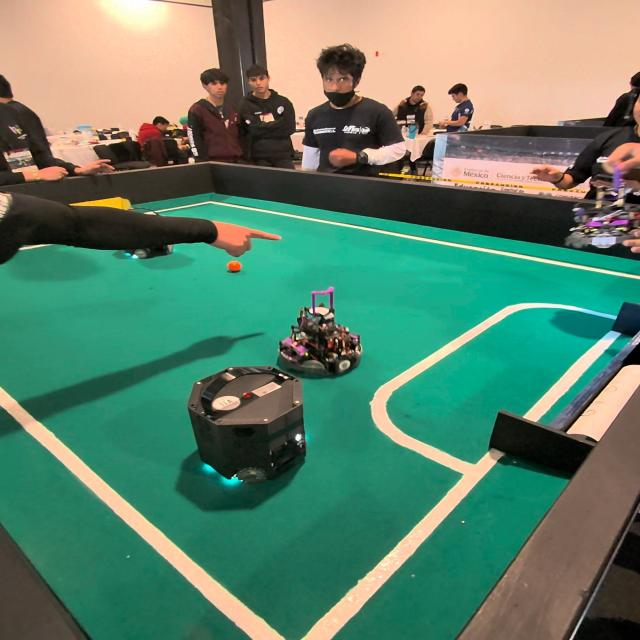Robot: (179, 368, 310, 486), (567, 162, 640, 264), (282, 298, 367, 385), (124, 236, 176, 264)
pelota: (229, 262, 243, 274)
